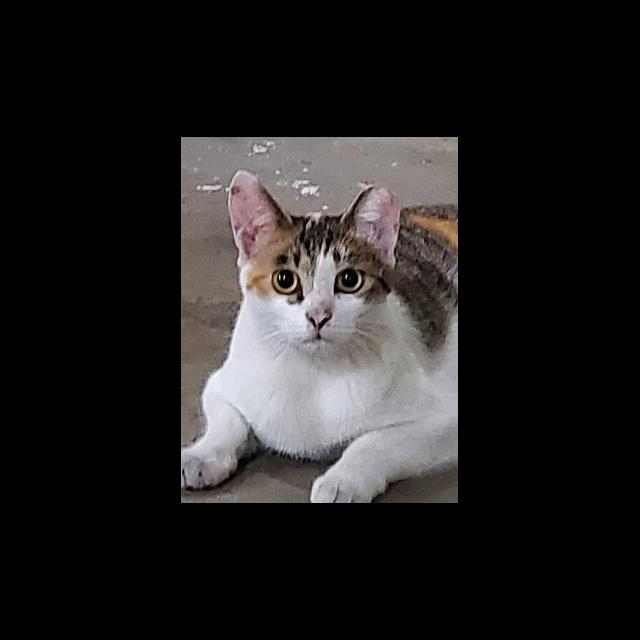animals: (220, 169, 407, 361)
